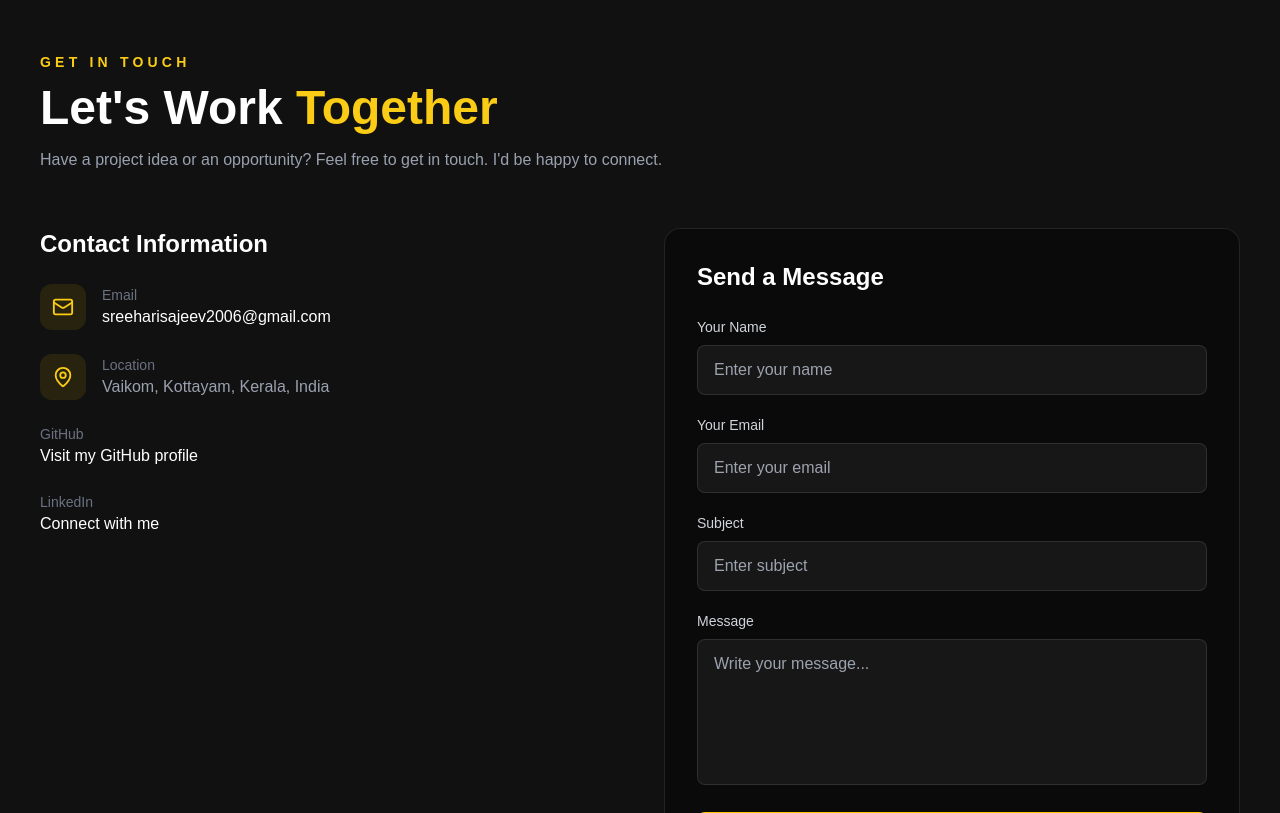
Test: Contact Component › shows an error message when email sending fails
Type "Sreehari" into the field labelled "Your Name" at (952, 370), box [697,345,1207,395]
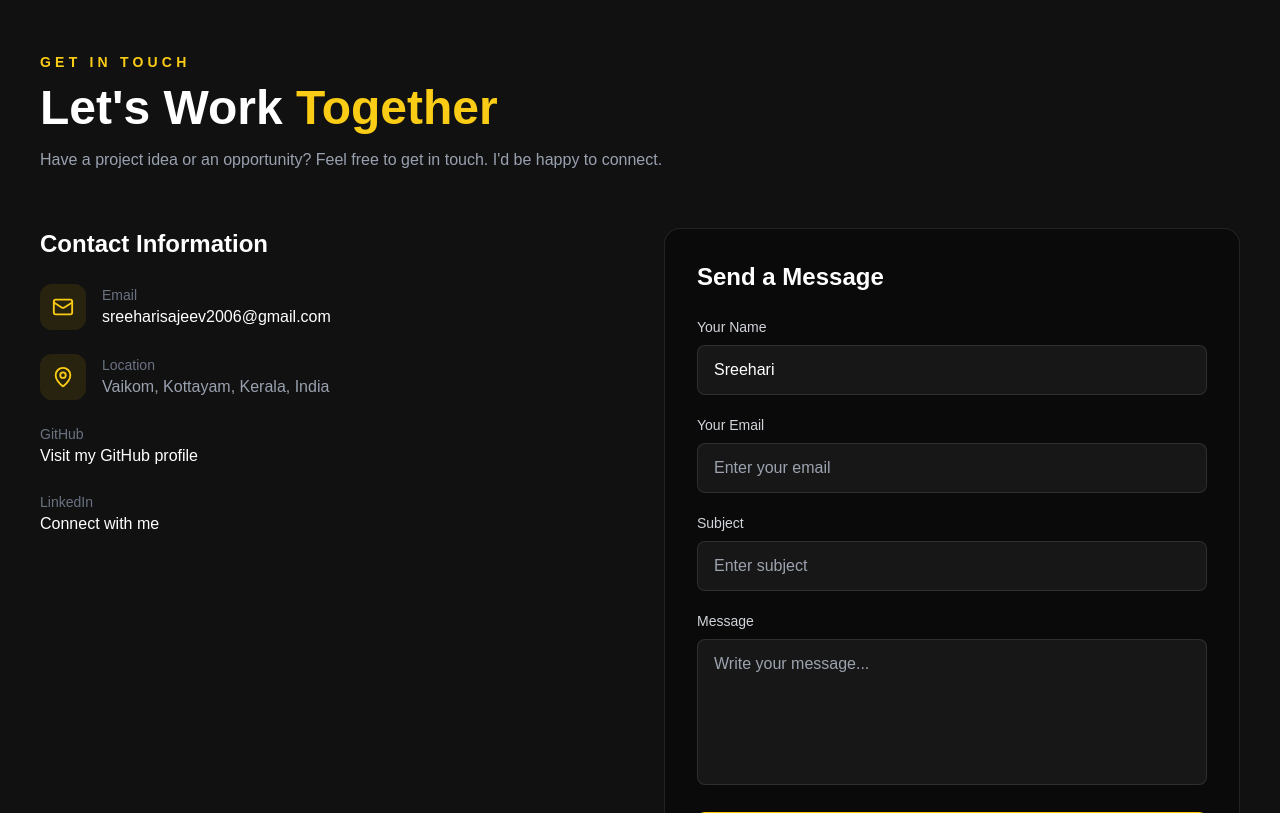
Type "test@example.com" into the field labelled "Your Email" at (952, 468), box [697,443,1207,493]
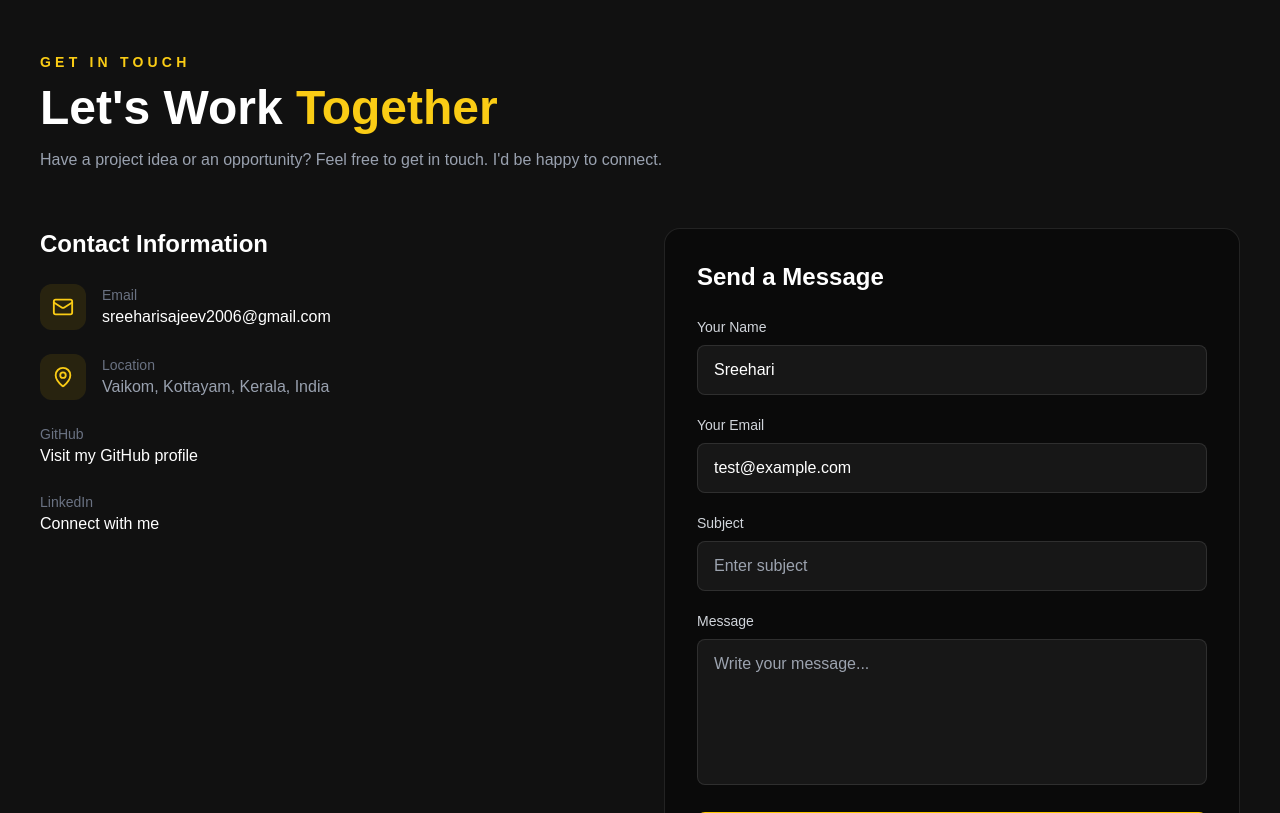
Type "Job Opportunity" into the field labelled "Subject" at (952, 566), box [697,541,1207,591]
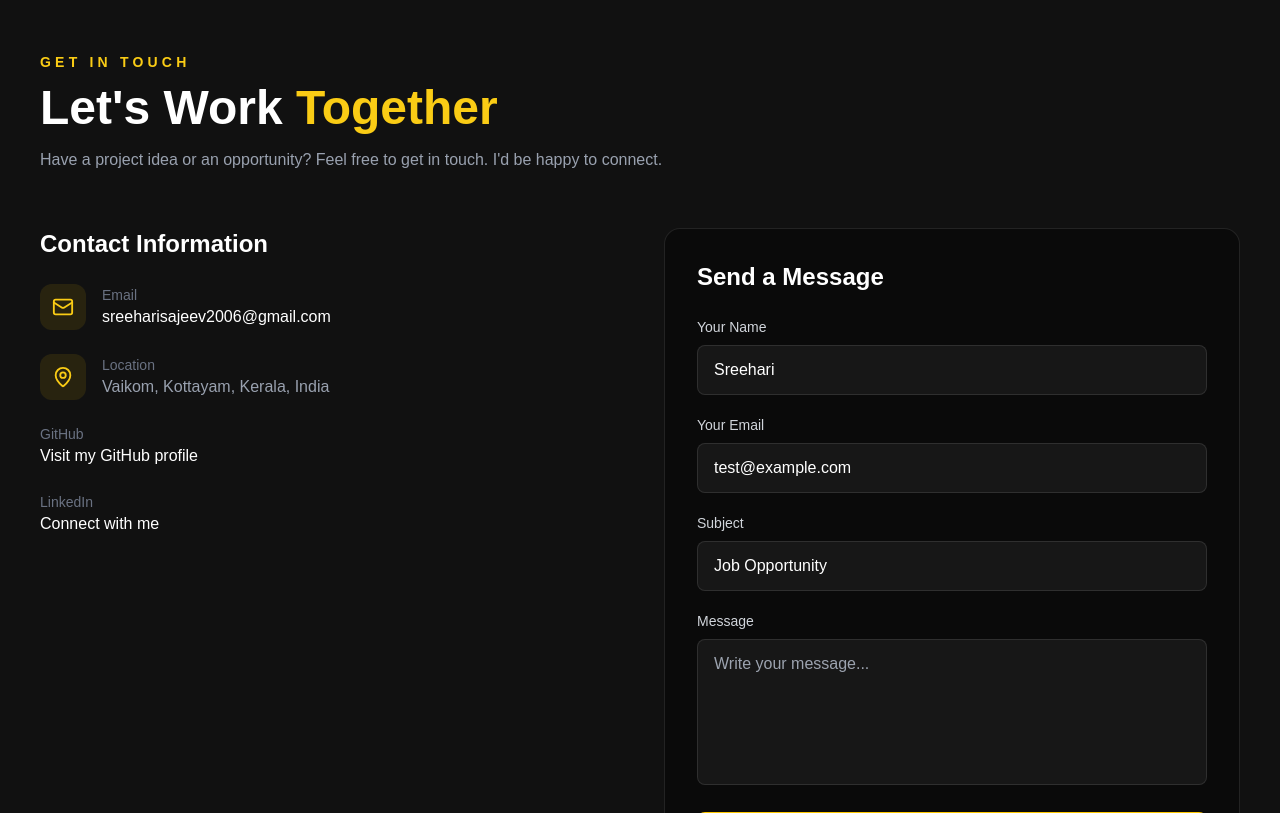
Type "Hello, I would like to connect." into the text box labelled "Message" at (952, 712), box [697,639,1207,785]
(page scrolled)
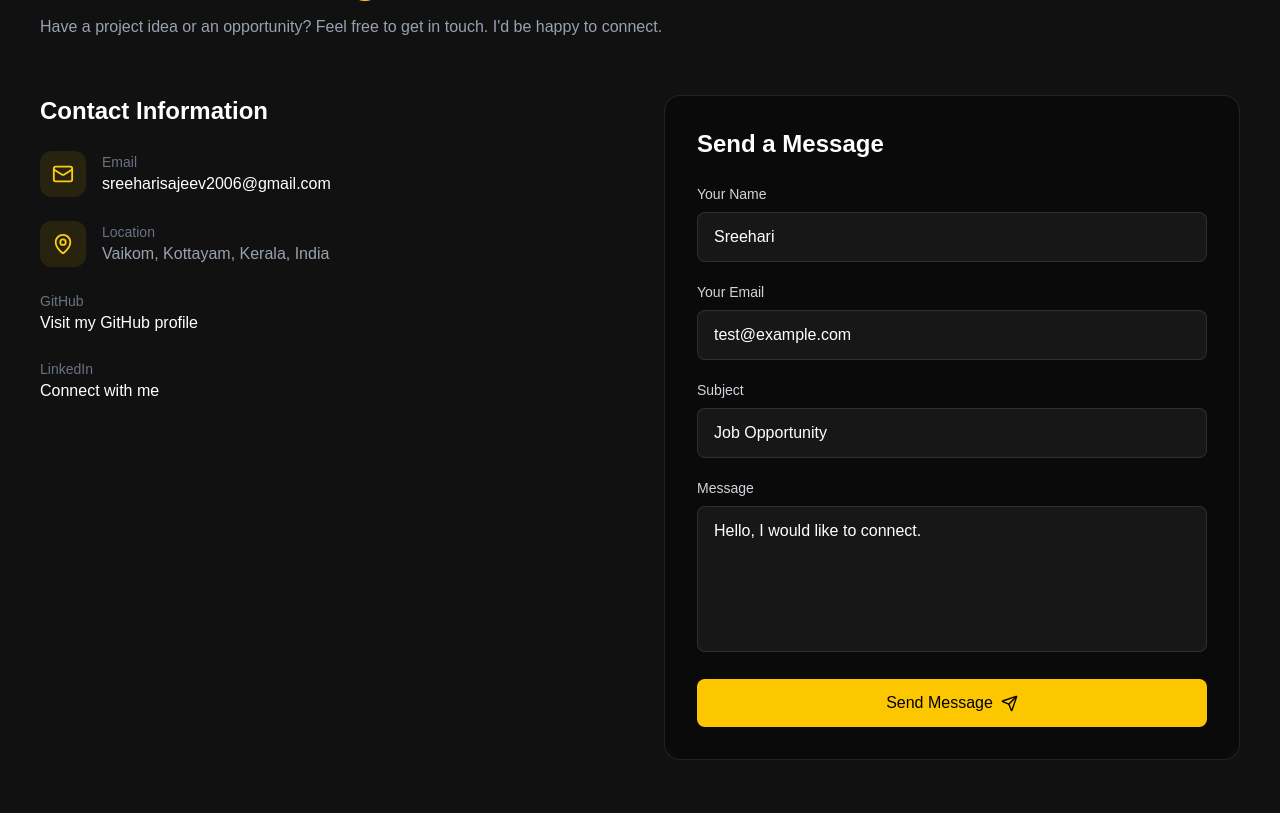
Click the button "Send Message" at (952, 703), box [697,679,1207,727]
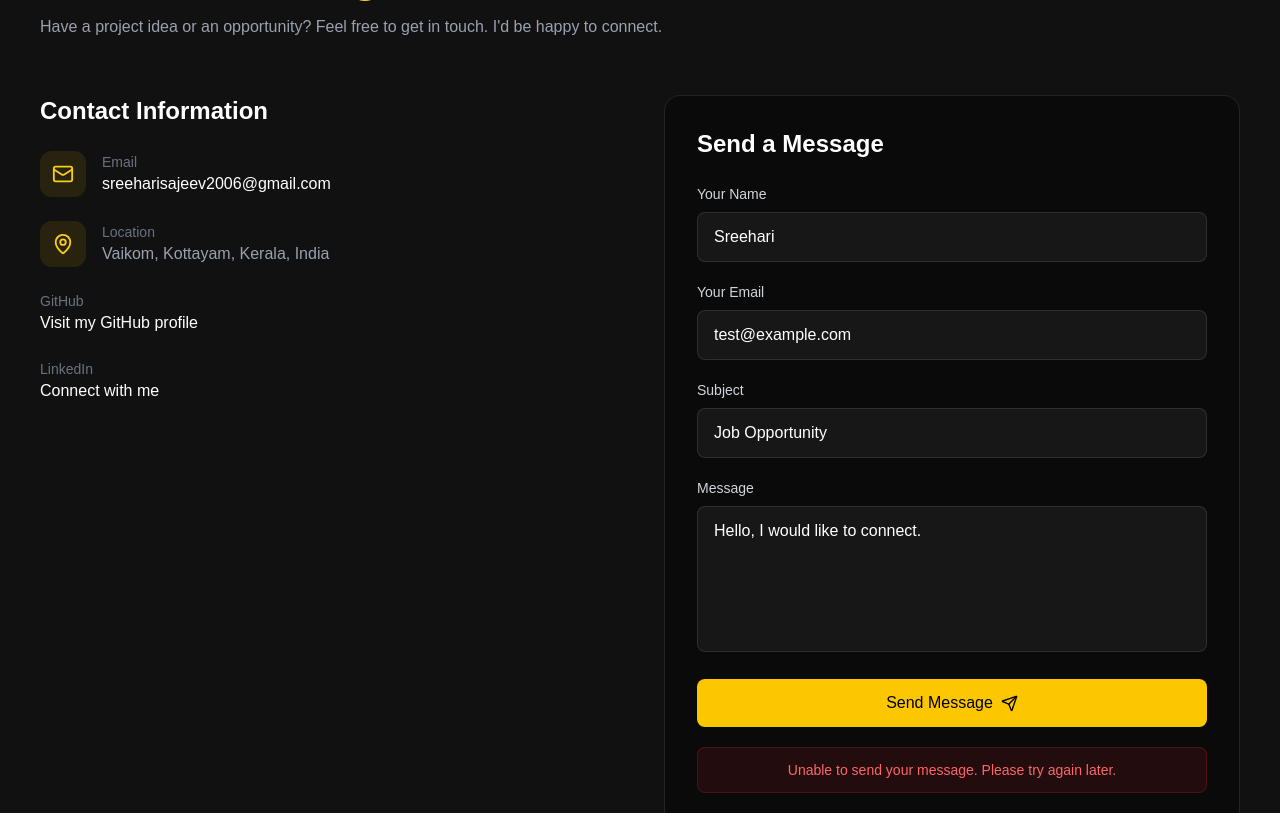
Expected: the message "Unable to send your message. Please try again later." is shown, [697,747,1207,793]
